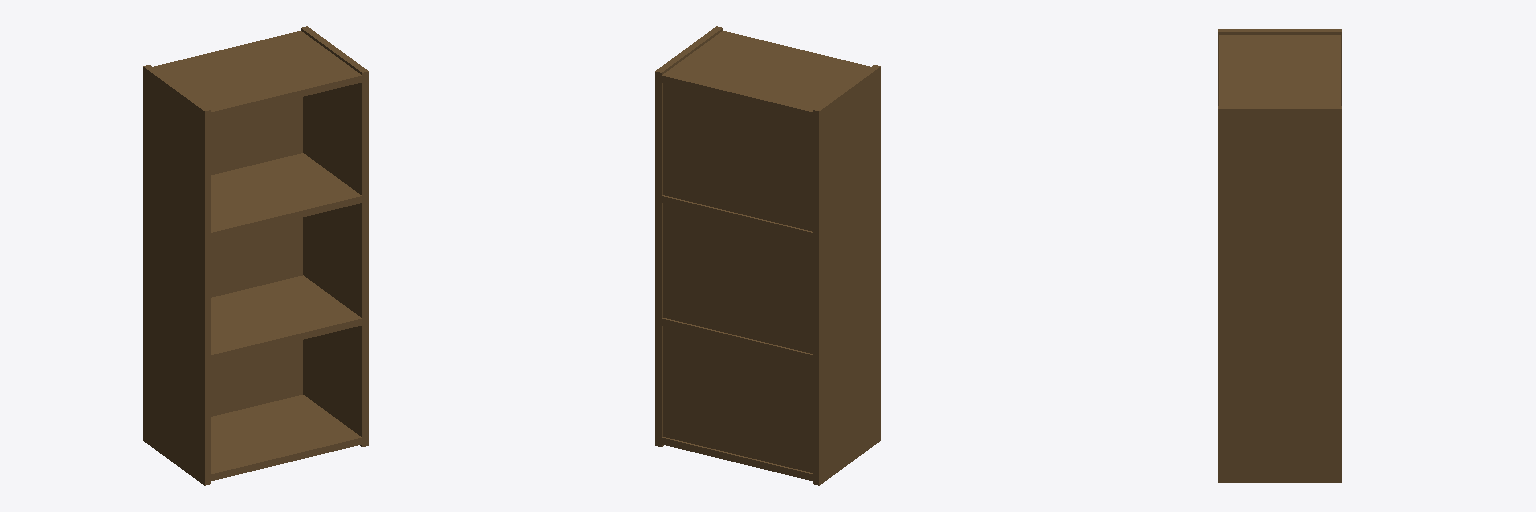
File: color-box2.obj
3 renders of one model, left to right at view 1: azimuth 30°, elevation 25°; view 2: azimuth 150°, elevation 25°; view 3: azimuth 270°, elevation 25°, orthographic.
Visible parts, largest first — view 1: side, separator, back; view 2: back, side, separator; view 3: side, separator.
Part boxes in pixels (x1,y1,x2,y2): side: (143, 26, 368, 485); separator: (153, 31, 361, 480); back: (211, 97, 302, 416); back: (663, 83, 812, 472); side: (655, 26, 880, 485); separator: (662, 31, 870, 480); side: (1218, 29, 1341, 482); separator: (1219, 35, 1340, 105).
Size of the model in its own units: 0.423 by 0.92 by 0.275.